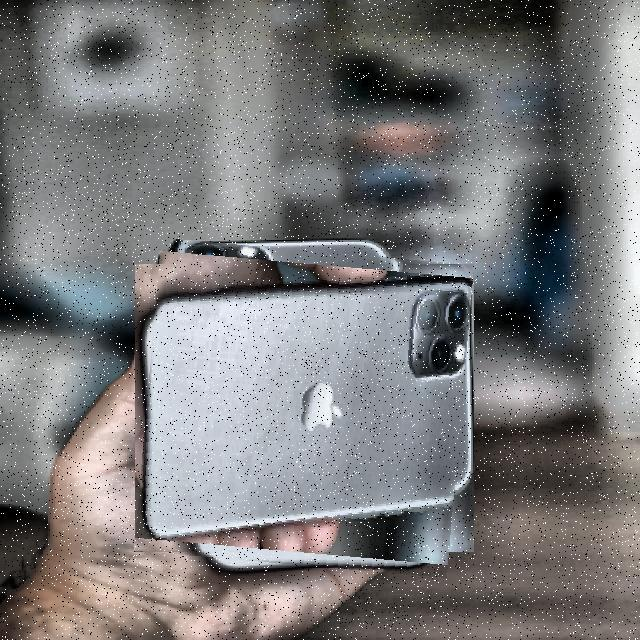Phone: (141, 244, 468, 572)
